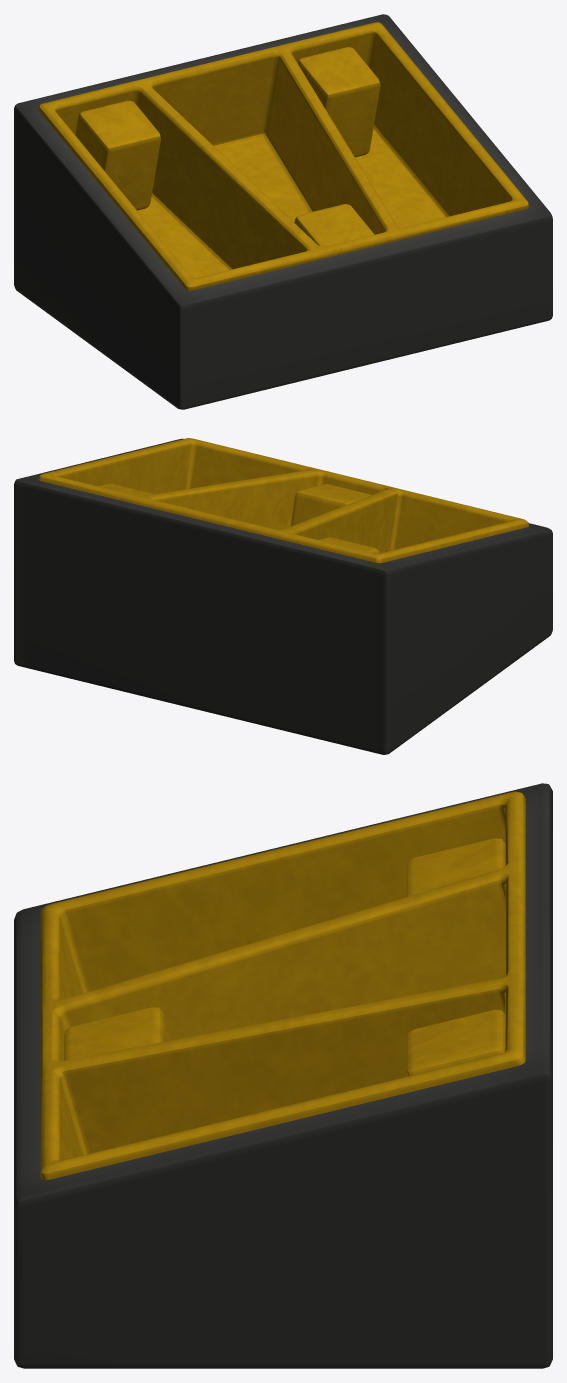
Rendered from YutNori_FinishBoxYellow.fbx.
3 views of the same model, one above another, from view 1: azimuth 30°, elevation 25°; view 2: azimuth 150°, elevation 25°; view 3: azimuth 270°, elevation 25° (orthographic). The views are drawn at different scales.
Parts seen in each view (by area): view 1: YutNori_FinishBoxYellow; view 2: YutNori_FinishBoxYellow; view 3: YutNori_FinishBoxYellow.
Part boxes in pixels (<box>): YutNori_FinishBoxYellow: <box>14,14,552,409</box>; YutNori_FinishBoxYellow: <box>14,438,552,754</box>; YutNori_FinishBoxYellow: <box>14,783,552,1368</box>.
Bounding box in the file's own units: 6.24 × 3.01 × 4.84.
